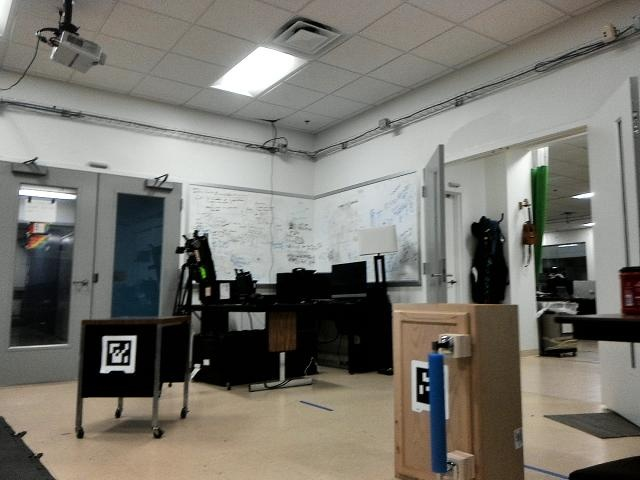noodle_handle: (424, 350, 451, 476)
